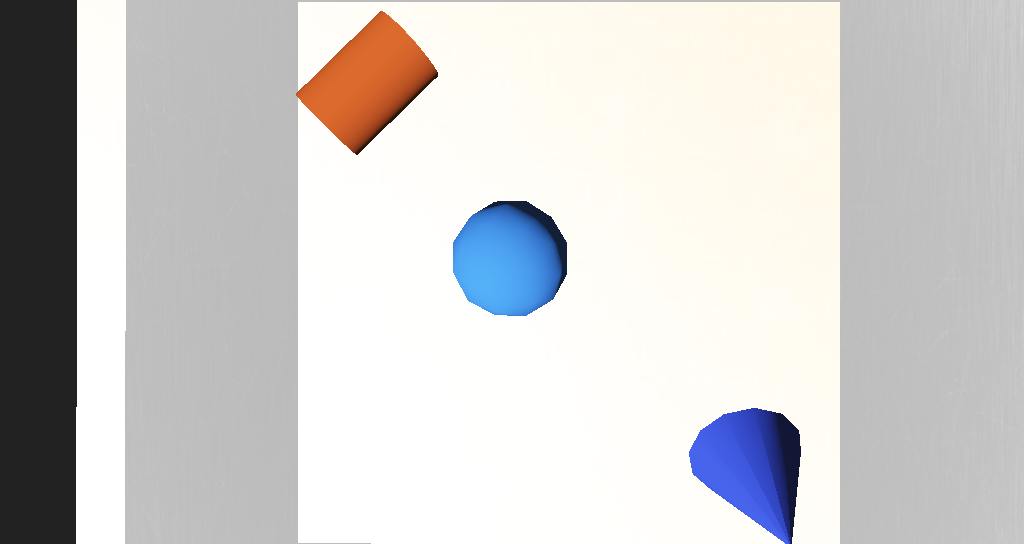cone: (354, 167, 441, 224)
cylinder: (576, 320, 650, 387)
sphere: (438, 239, 505, 286)
